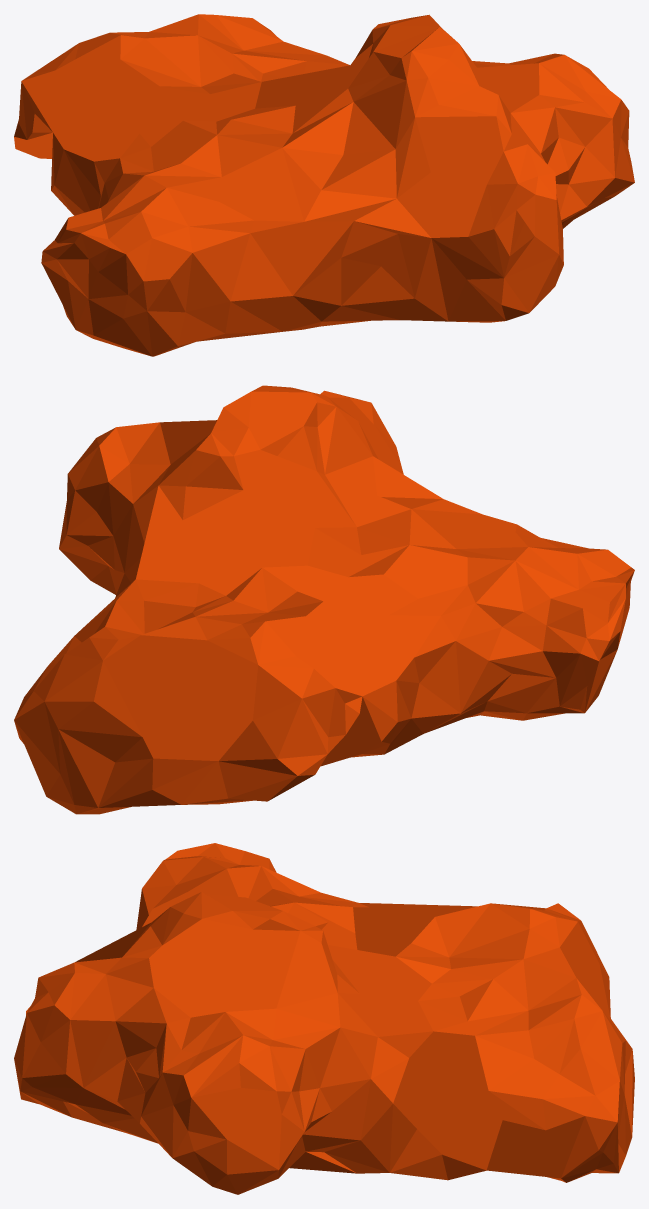
The model's file is stone_1.fbx.
3 renders of one model, top to bottom at view 1: azimuth 30°, elevation 25°; view 2: azimuth 150°, elevation 25°; view 3: azimuth 270°, elevation 25°, orthographic. The views are drawn at different scales.
Parts seen in each view (by area): view 1: Cube; view 2: Cube; view 3: Cube.
Boxes of the visible parts, x1,y1,x2,y2 form: Cube: (14, 14, 634, 356); Cube: (14, 385, 634, 814); Cube: (14, 843, 634, 1194).
Size of the model in its own units: 1506 by 731 by 1486.
